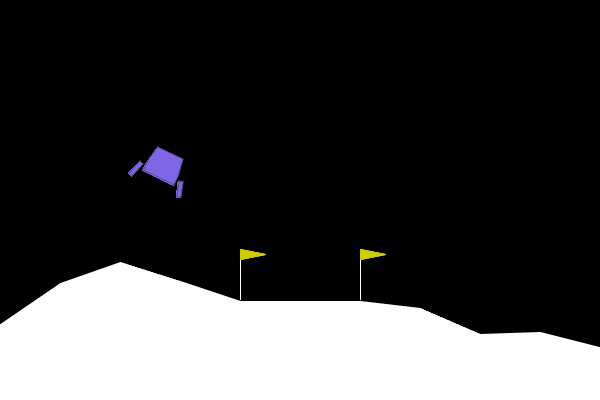lander: (126, 139, 198, 200)
